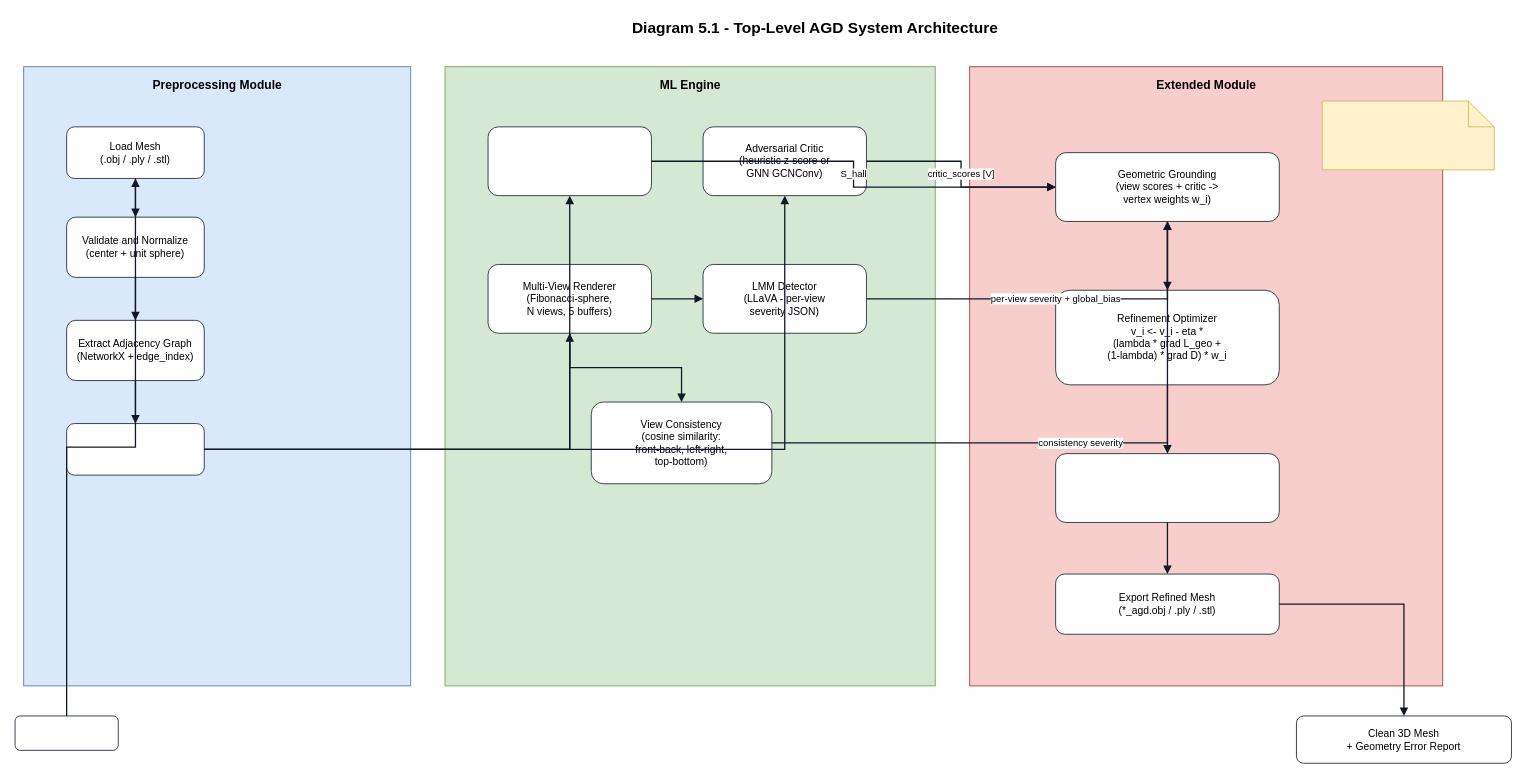
This 1527x778 diagram has some shape labels left out. The box of each missing label's shape, as (x1, y1, x2, y2) in pixels:
All shapes and connectors are editable separately inside draw.io.: (1321, 100, 1494, 170)
Discriminator (topology + spectral + geometry quality): (487, 126, 651, 196)
Input Mesh: (14, 715, 118, 750)
Post-Analysis (discriminator + 10-metric report): (1055, 453, 1279, 522)
Snapshot Original Vertices v_i^(0): (66, 423, 204, 475)
